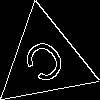C: (20, 35, 75, 94)
